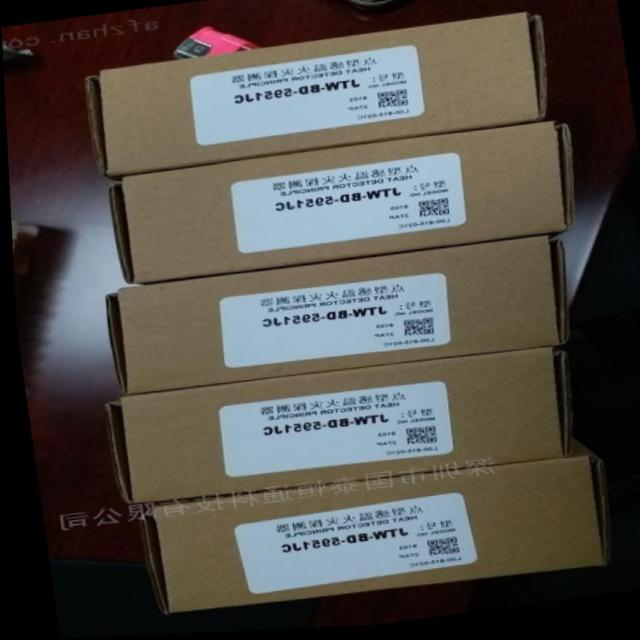box: (134, 443, 605, 616), (85, 15, 544, 178), (108, 126, 571, 285), (104, 238, 566, 396), (103, 350, 566, 506)
